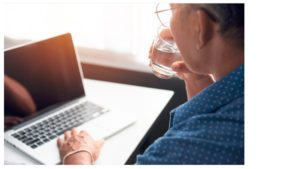drinking: (122, 1, 241, 134)
